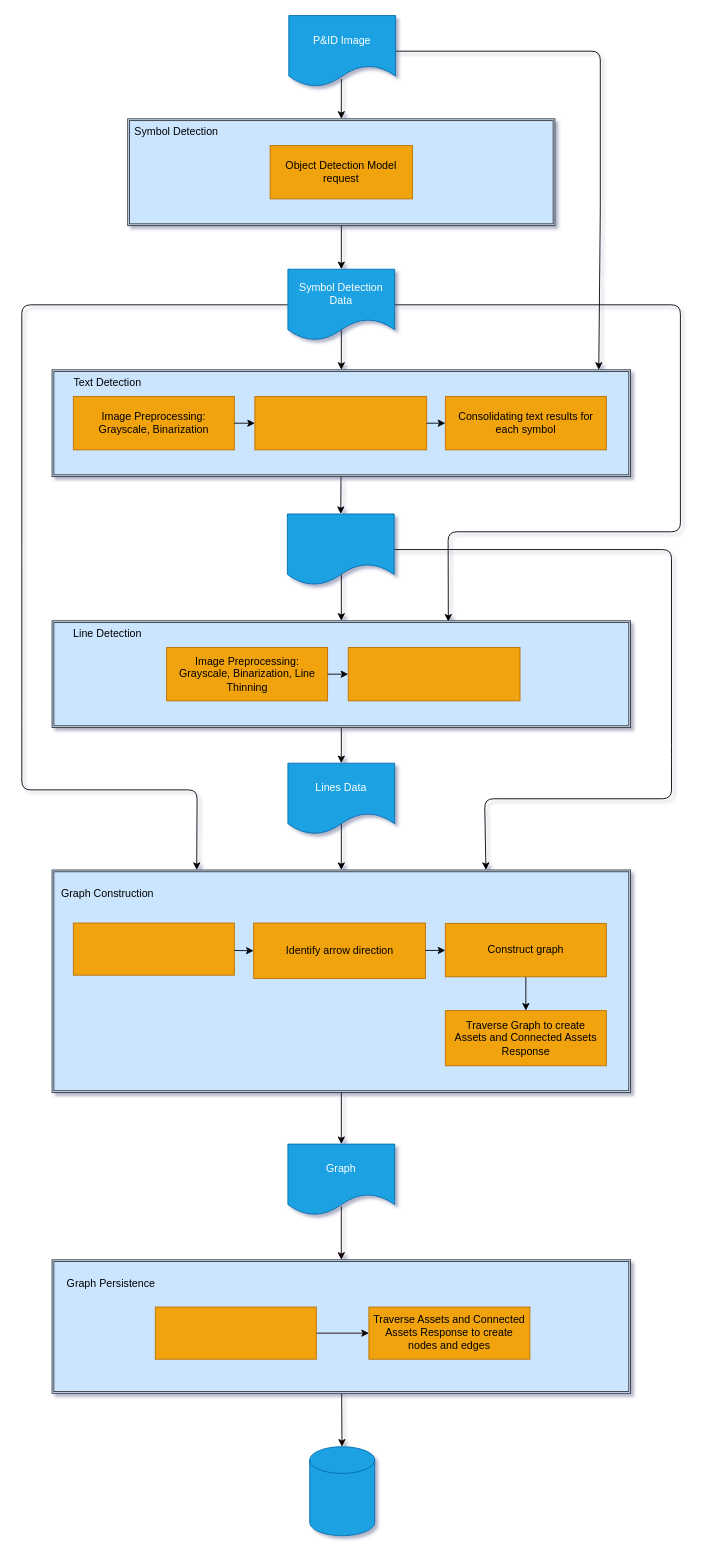
Some shapes in this 708 by 1557 pixel diagram are drawn without their labels. Each missing label, with the centre of its shape:
"Azure Document Intelligence read (OCR) model request" belongs at [340,423].
"Delete existing P&ID graph in database" belongs at [235,1332].
"Identify Line start/end elements (symbol, text and line)" belongs at [153,948].
"Line Recognition using Hough Transform" belongs at [433,674].
"SQL Graph Database" belongs at [342,1491].
"Text Data" belongs at [340,549].
